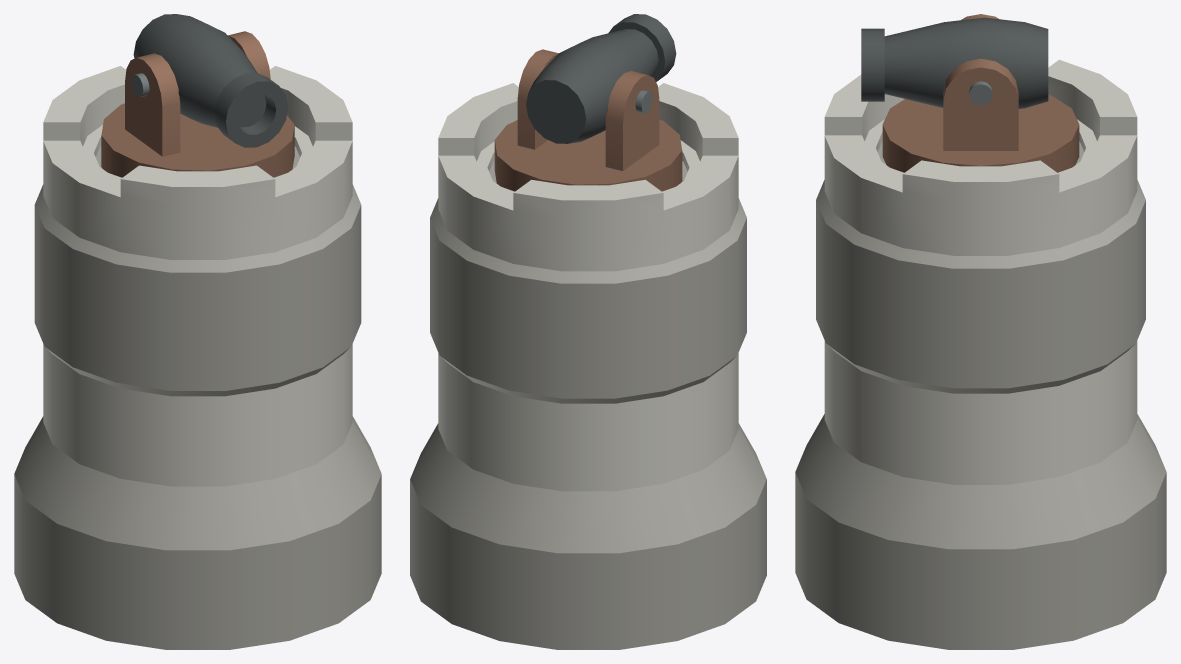
File: CannonTower.fbx
3 renders of one model, left to right at view 1: azimuth 30°, elevation 25°; view 2: azimuth 150°, elevation 25°; view 3: azimuth 270°, elevation 25°, orthographic. The views are drawn at different scales.
Parts seen in each view (by area): view 1: RoundTower, Gun, Base, Walls; view 2: RoundTower, Gun, Base, Walls; view 3: RoundTower, Gun, Base, Walls.
Boxes of the visible parts, <box> form: RoundTower: <box>14,66,381,649</box>; Gun: <box>133,14,288,147</box>; Base: <box>101,103,294,177</box>; Walls: <box>125,31,270,156</box>; RoundTower: <box>410,83,766,649</box>; Gun: <box>526,14,676,143</box>; Base: <box>494,119,682,191</box>; Walls: <box>517,49,659,170</box>; RoundTower: <box>795,59,1166,649</box>; Gun: <box>861,17,1048,108</box>; Base: <box>882,94,1079,172</box>; Walls: <box>943,14,1018,150</box>.
Bounding box in the file's own units: 75.54 × 125 × 76.7.
